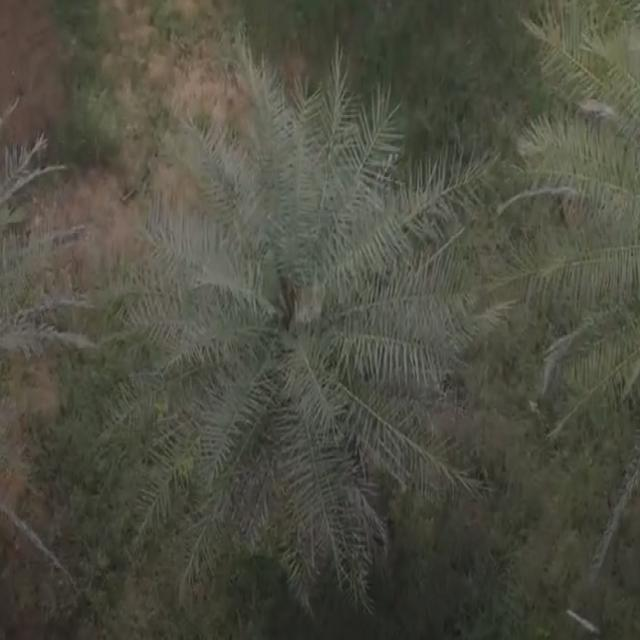notMangoTree: (71, 23, 489, 613), (510, 0, 640, 564), (0, 52, 77, 490)
